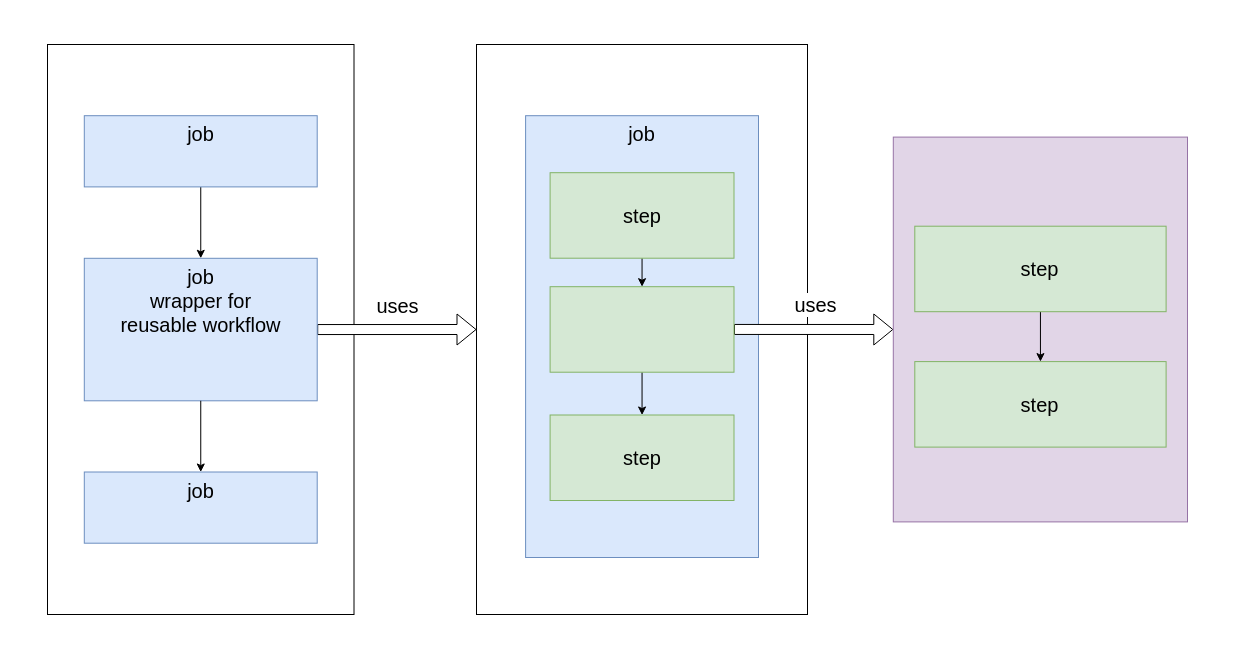
Some shapes in this 1234 by 662 pixel diagram are drawn without their labels. The box of each missing label's shape, as (x1, y1, x2, y2) in pixels:
composite action: (892, 136, 1188, 522)
main workflow: (46, 44, 354, 614)
reusable workflow: (476, 44, 808, 614)
step wrapper: (549, 286, 734, 372)
